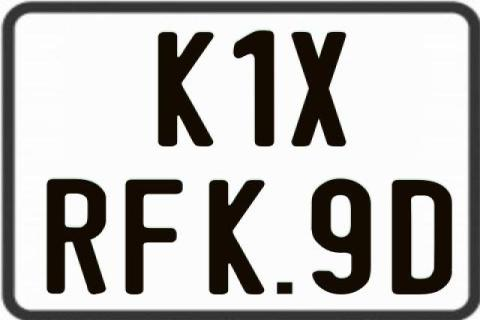0: (310, 178, 375, 298), (230, 29, 276, 145)
D: (390, 179, 453, 297)
F: (122, 178, 186, 294)
K: (208, 180, 270, 297), (158, 30, 220, 146)
R: (46, 177, 108, 296)
X: (290, 29, 346, 149)
